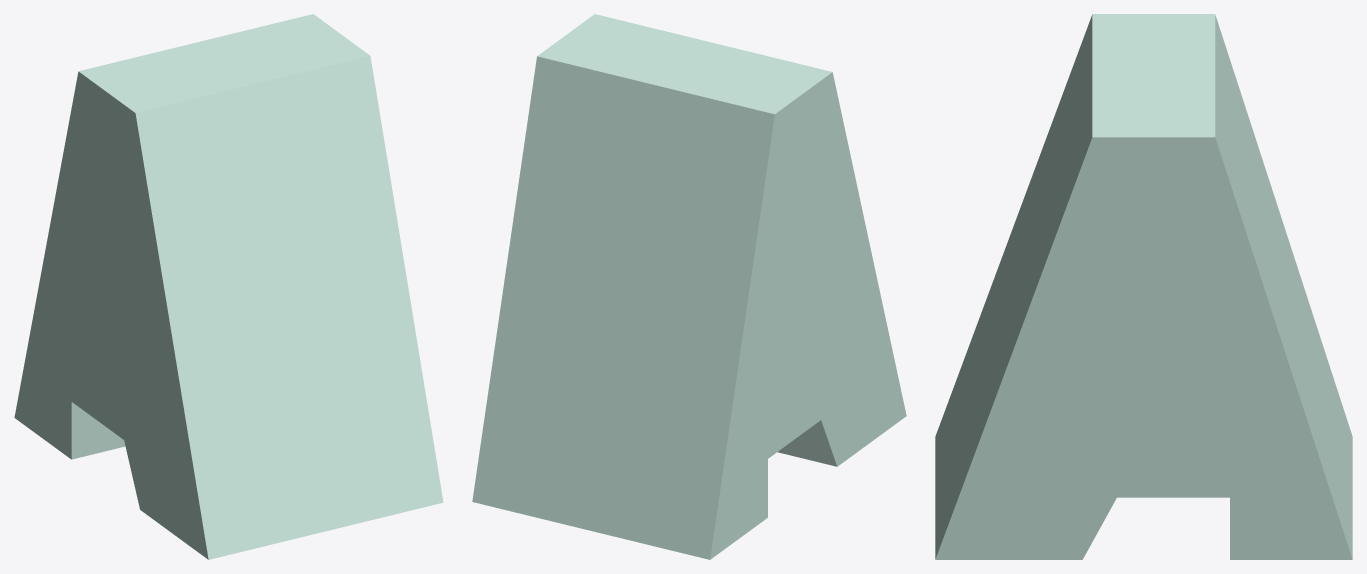
3 renders of one model, left to right at view 1: azimuth 30°, elevation 25°; view 2: azimuth 150°, elevation 25°; view 3: azimuth 270°, elevation 25°, orthographic. The views are drawn at different scales.
Parts seen in each view (by area): view 1: Renderer Node; view 2: Renderer Node; view 3: Renderer Node.
Part boxes in pixels (x1,y1,x2,y2): Renderer Node: [14, 14, 443, 559]; Renderer Node: [472, 14, 906, 559]; Renderer Node: [935, 14, 1352, 559].
Bounding box in the file's own units: 0.4688 × 0.75 × 0.6711.
